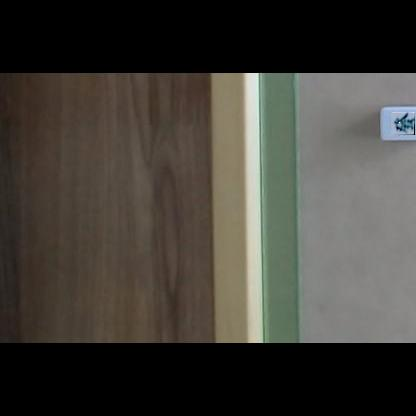6z: (391, 112, 415, 135)
